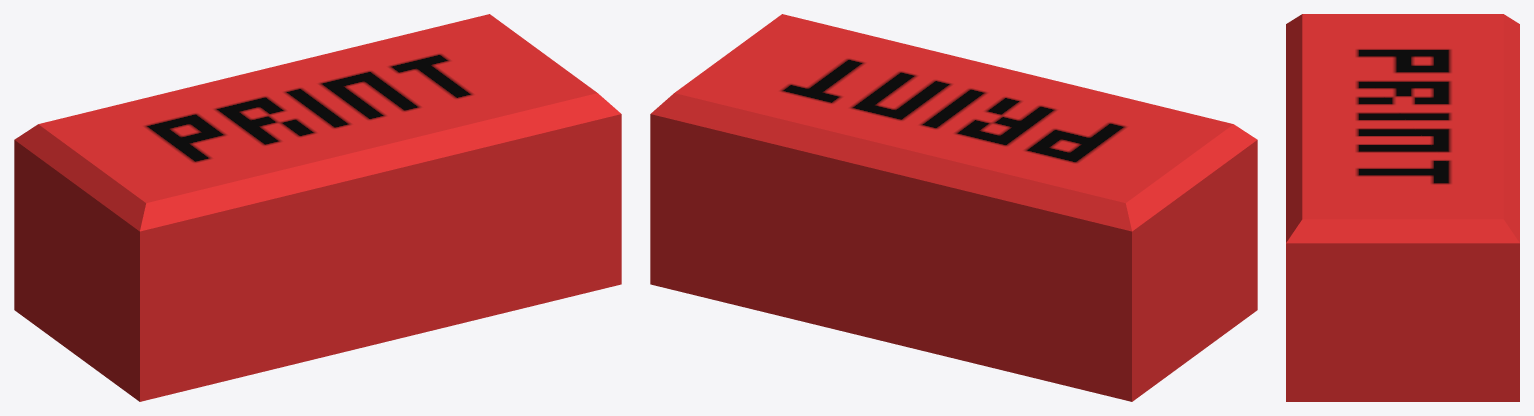
The model's file is PrintButton.fbx.
3 views of the same model, side by side, from view 1: azimuth 30°, elevation 25°; view 2: azimuth 150°, elevation 25°; view 3: azimuth 270°, elevation 25° (orthographic). The views are drawn at different scales.
Visible parts, largest first — view 1: PrintButton; view 2: PrintButton; view 3: PrintButton.
Boxes of the visible parts, bbox=[...] form: PrintButton: bbox=[14, 14, 621, 401]; PrintButton: bbox=[650, 14, 1257, 401]; PrintButton: bbox=[1286, 14, 1519, 401].
Size of the model in its own units: 26.51 by 9.92 by 11.96.
